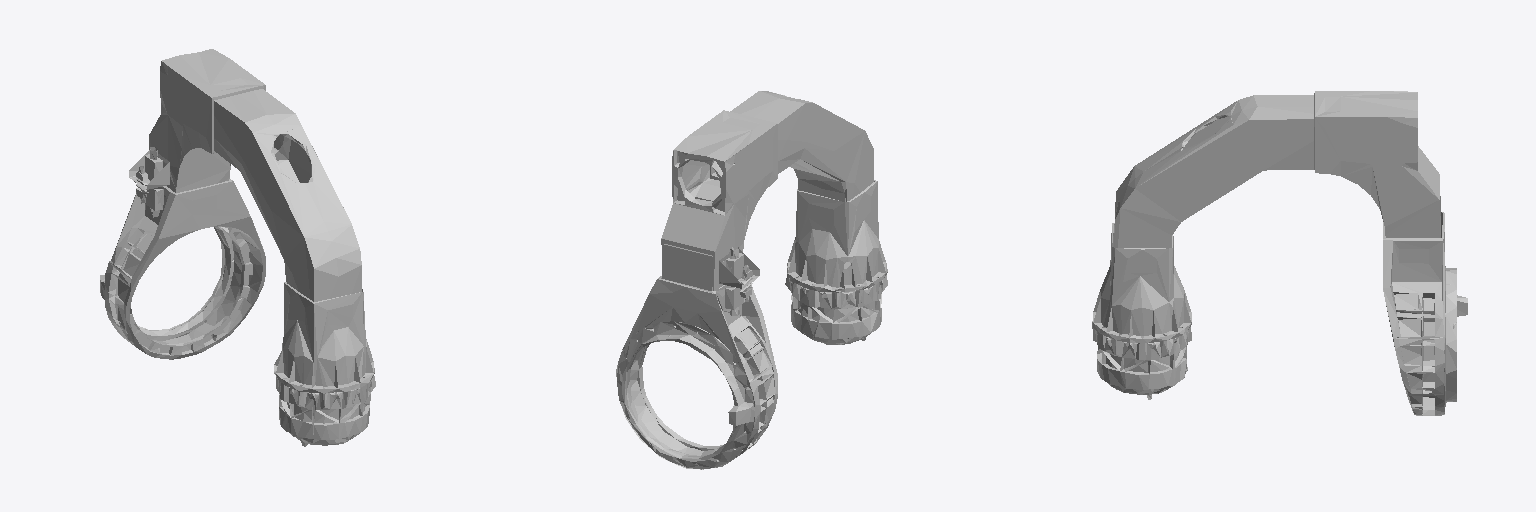
File: Steer_LeftRear.obj
3 renders of one model, left to right at view 1: azimuth 30°, elevation 25°; view 2: azimuth 150°, elevation 25°; view 3: azimuth 270°, elevation 25°, orthographic.
Visible parts, largest first — view 1: Steer_LeftRear.obj; view 2: Steer_LeftRear.obj; view 3: Steer_LeftRear.obj.
Part boxes in pixels (x1,y1,x2,y2): Steer_LeftRear.obj: (100,49,375,446); Steer_LeftRear.obj: (616,91,887,469); Steer_LeftRear.obj: (1092,91,1467,415).
Bounding box in the file's own units: 0.2089 × 0.4329 × 0.4854.